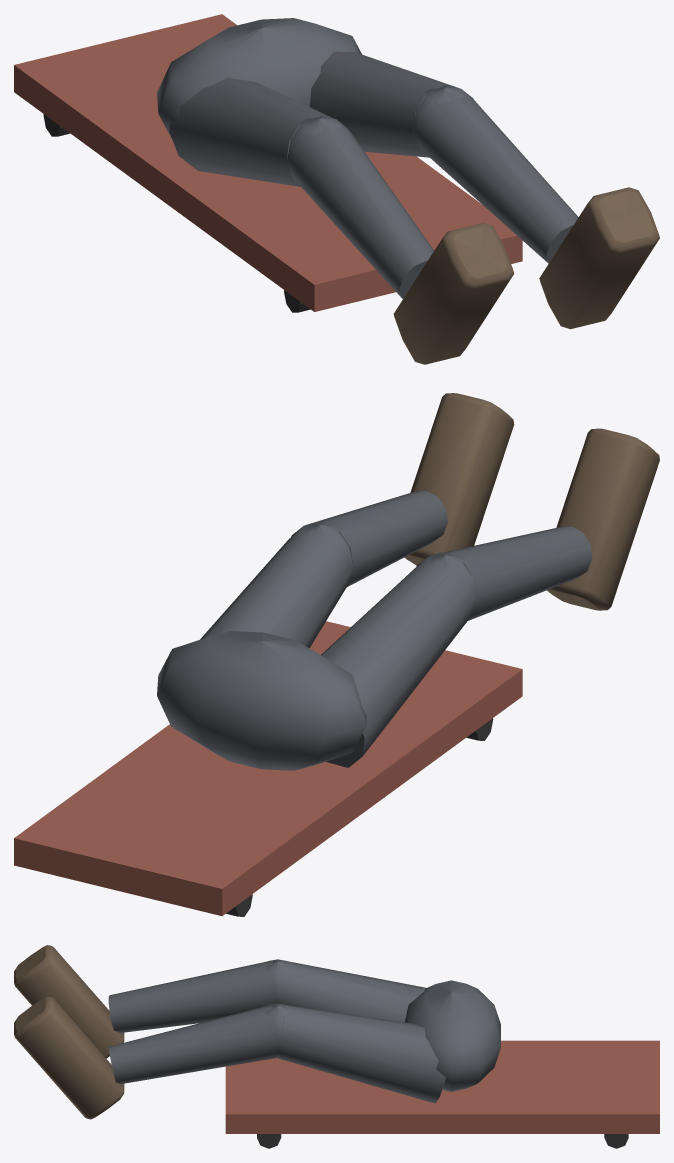
Rendered from ellis_under_bus_a.glb.
3 renders of one model, top to bottom at view 1: azimuth 30°, elevation 25°; view 2: azimuth 150°, elevation 25°; view 3: azimuth 270°, elevation 25°, orthographic. The views are drawn at different scales.
Visible parts, largest first — view 1: body; view 2: body; view 3: body.
Part boxes in pixels (x1,y1,x2,y2): body: (14,14,659,364); body: (14,393,659,916); body: (14,945,659,1148).
Bounding box in the file's own units: 0.4 × 0.3508 × 1.49.
